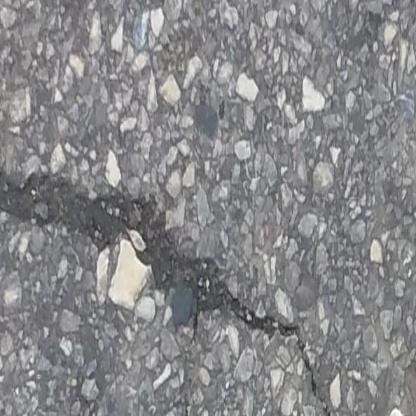Cracks: (0, 158, 339, 414)
